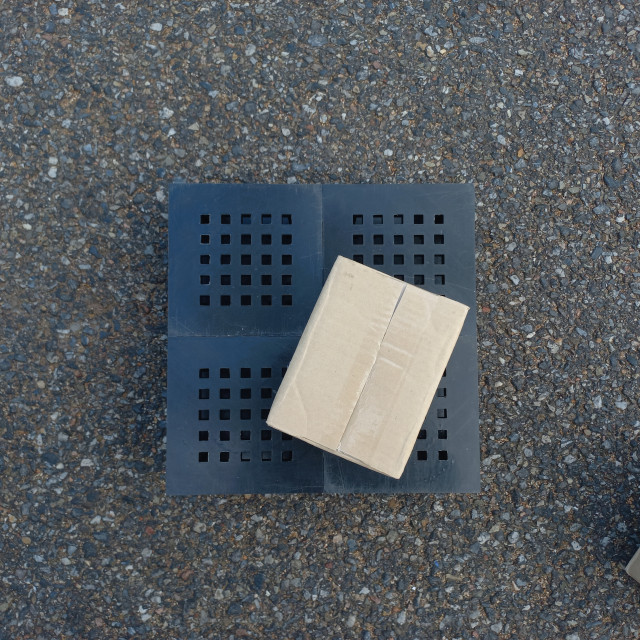box: (166, 157, 372, 387)
pallet: (159, 142, 481, 463)
